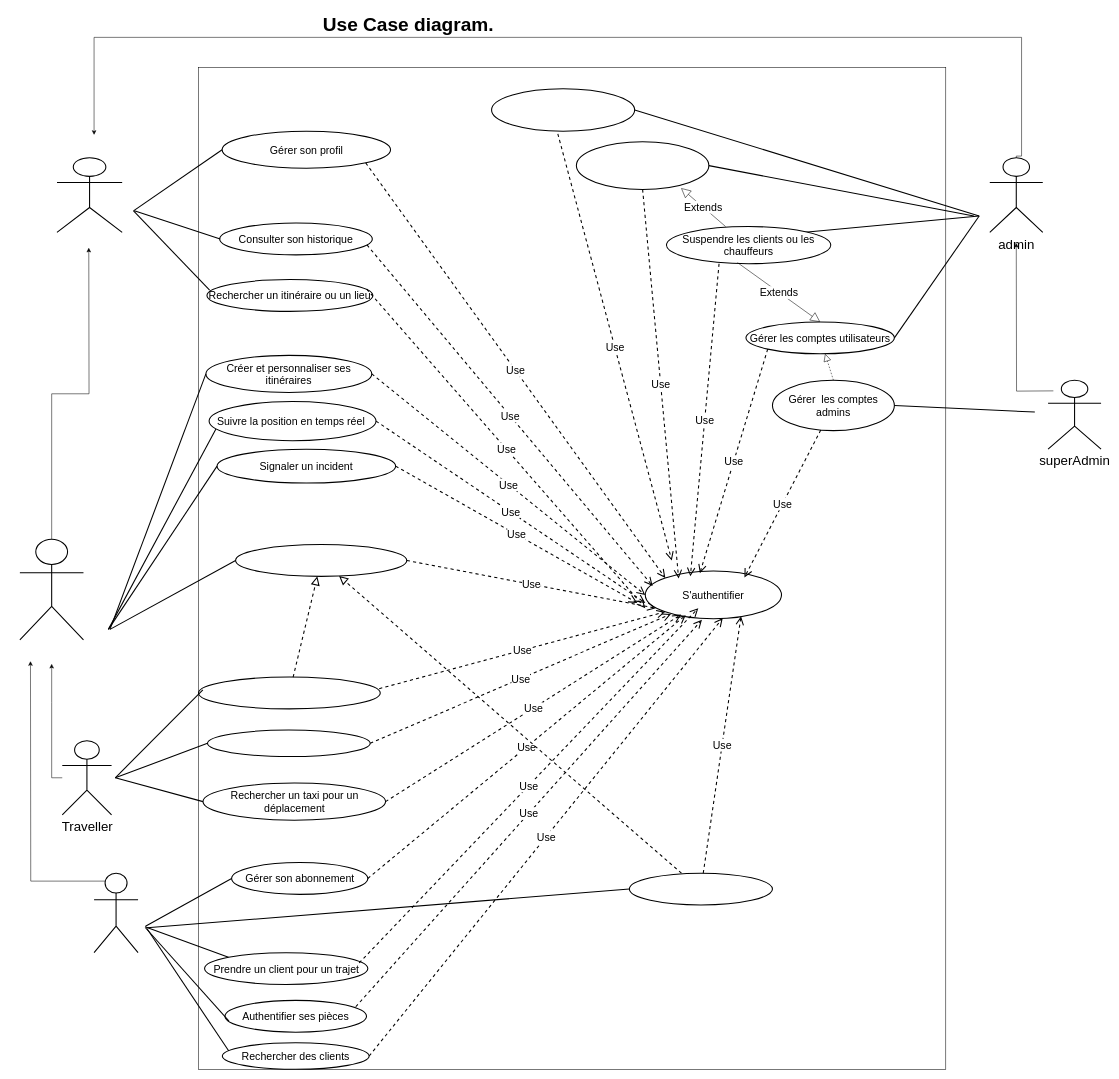
Some shapes in this 1119 by 1079 pixel diagram are drawn without their labels. Here are the shapes that lost their labels. From the top down, the centre of each, then its label:
At pixel 563 109: "Consulter les statistiques".
At pixel 642 165: "Consulter les plaintes".
At pixel 89 195: "User".
At pixel 321 560: "Faire une notation".
At pixel 51 589: "Business User".
At pixel 289 692: "Noter un chauffeur".
At pixel 288 743: "Estimer le coût d'un trajet".
At pixel 701 888: "Noter un client".
At pixel 115 912: "Driver".
